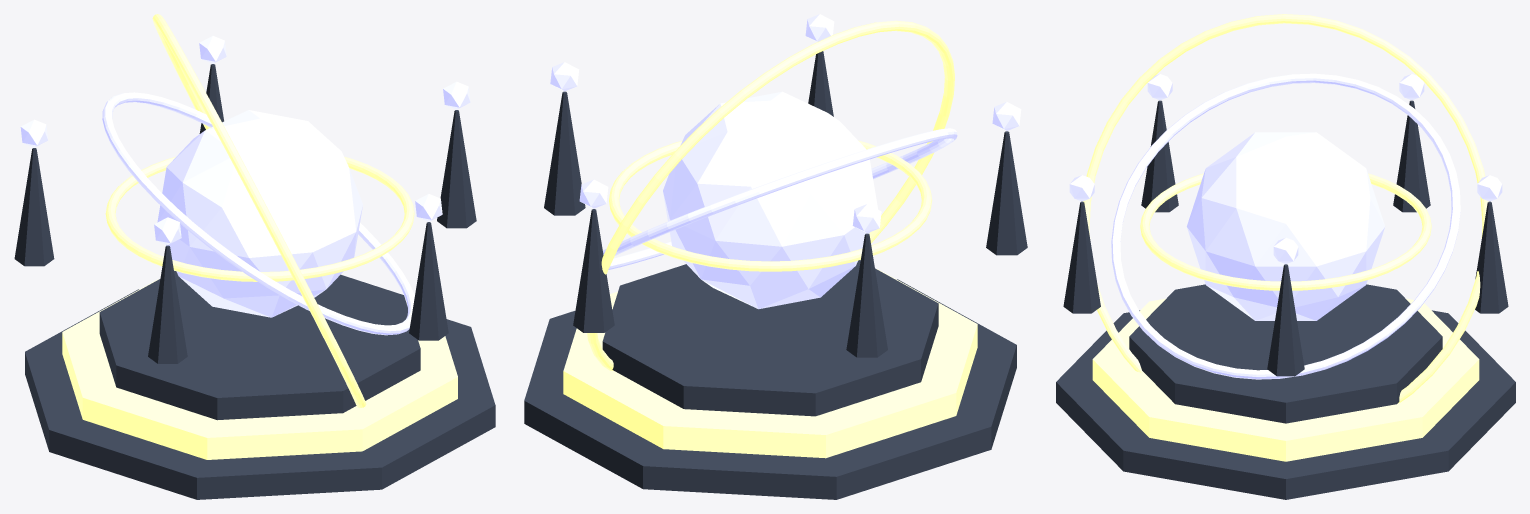
Rendered from gpu-blender-v30.glb.
3 views of the same model, side by side, from view 1: azimuth 30°, elevation 25°; view 2: azimuth 150°, elevation 25°; view 3: azimuth 270°, elevation 25° (orthographic). The views are drawn at different scales.
Visible parts, largest first — view 1: Cylinder.002, SovereignCore_azoth-local-agent, Cylinder, Cylinder.001, Torus.001, Torus.002, Torus, Cone.002, Cone.004, Cone.003, Cone, Icosphere.001 (+5 smaller); view 2: Cylinder.002, SovereignCore_azoth-local-agent, Cylinder, Cylinder.001, Torus.002, Torus, Torus.001, Cone.003, Cone.002, Cone, Cone.001, Cone.004 (+5 smaller); view 3: SovereignCore_azoth-local-agent, Cylinder.002, Cylinder, Cylinder.001, Torus.001, Torus.002, Torus, Cone, Cone.004, Cone.001, Cone.002, Cone.003 (+5 smaller).
Boxes of the visible parts, x1,y1,x2,y2 form: Cylinder.002: (99,271,420,420); SovereignCore_azoth-local-agent: (157,110,362,317); Cylinder: (25,289,495,499); Cylinder.001: (62,279,457,459); Torus.001: (102,92,414,335); Torus.002: (152,14,366,407); Torus: (105,156,414,281); Cone.002: (14,148,54,266); Cone.004: (409,222,448,340); Cone.003: (148,245,187,363); Cone: (437,110,476,228); Icosphere.001: (199,36,226,63); Cylinder.002: (602,260,938,416); SovereignCore_azoth-local-agent: (663,91,877,309); Cylinder: (524,279,1016,499); Cylinder.001: (563,269,977,458); Torus.002: (587,20,954,370); Torus: (609,140,932,271); Torus.001: (603,128,957,269); Cone.003: (986,131,1027,255); Cone.002: (846,233,887,357); Cone: (544,91,585,215); Cone.001: (573,209,614,332); Cone.004: (808,51,833,116); SovereignCore_azoth-local-agent: (1186,132,1385,320); Cylinder.002: (1129,284,1442,423); Cylinder: (1056,310,1515,499); Cylinder.001: (1092,298,1479,461); Torus.001: (1111,73,1460,379); Torus.002: (1083,14,1488,403); Torus: (1140,173,1431,290); Cone: (1267,264,1304,376); Cone.004: (1063,201,1100,313); Cone.001: (1475,201,1508,313); Cone.002: (1393,100,1430,212); Cone.003: (1141,100,1178,212).
Size of the model in its own units: 4.41 by 3.72 by 4.4.
